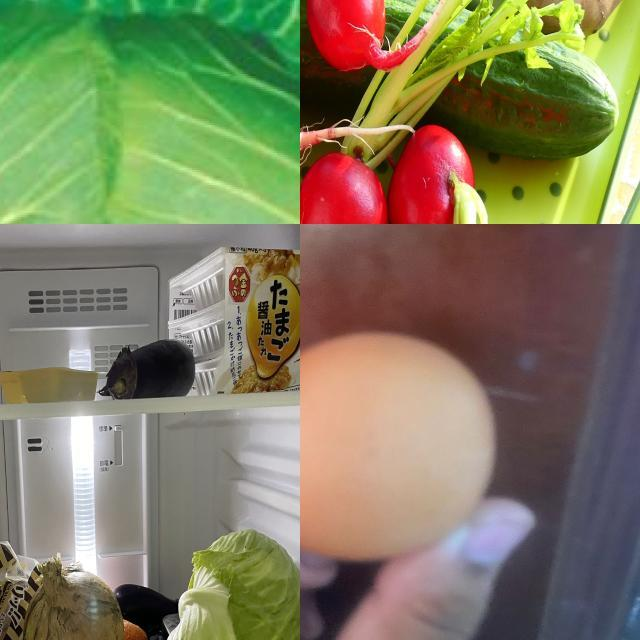cabbage: (1, 4, 301, 225), (165, 532, 301, 640)
carrot: (120, 618, 151, 640)
egg: (301, 324, 506, 562)
eggplant: (102, 337, 194, 397), (115, 583, 181, 631)
onion: (22, 557, 124, 640)
